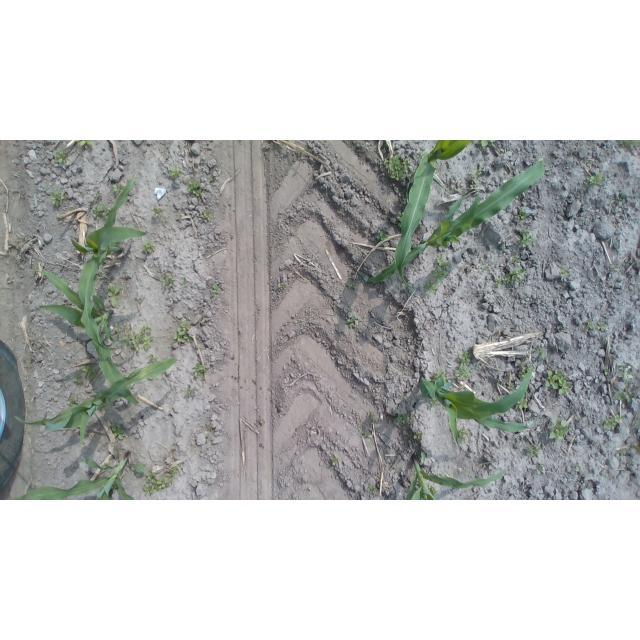Maize: (367, 160, 546, 285), (14, 355, 178, 450), (396, 141, 477, 292), (68, 174, 149, 314), (421, 362, 540, 450), (32, 267, 138, 361), (7, 451, 157, 500)
Weeds: (140, 465, 182, 498), (383, 154, 413, 185), (544, 367, 574, 397), (452, 351, 477, 382), (127, 323, 155, 349), (600, 414, 628, 439), (169, 320, 193, 348), (550, 415, 574, 441), (69, 368, 103, 385), (106, 282, 125, 311), (430, 255, 450, 281), (615, 362, 635, 387), (91, 203, 112, 224), (185, 178, 205, 200), (507, 263, 529, 283), (48, 190, 68, 210), (393, 411, 417, 427), (190, 365, 211, 383), (111, 422, 128, 444), (51, 151, 69, 170), (167, 163, 186, 181), (515, 231, 534, 249), (613, 388, 633, 405), (365, 408, 382, 427), (142, 236, 158, 256), (343, 278, 361, 294), (587, 172, 606, 187), (198, 208, 214, 225), (208, 281, 224, 298), (525, 444, 543, 458), (426, 280, 441, 296), (410, 428, 425, 444), (560, 265, 571, 286), (582, 319, 595, 336), (182, 386, 197, 400), (160, 273, 172, 290), (365, 483, 379, 496), (111, 182, 123, 197), (276, 279, 288, 294), (363, 426, 374, 442), (150, 207, 166, 218), (461, 430, 472, 446), (79, 140, 96, 150), (494, 277, 505, 291), (515, 211, 529, 222), (596, 321, 611, 331), (347, 316, 358, 329), (147, 353, 158, 365), (330, 456, 338, 470), (601, 366, 609, 380), (181, 278, 190, 289)
